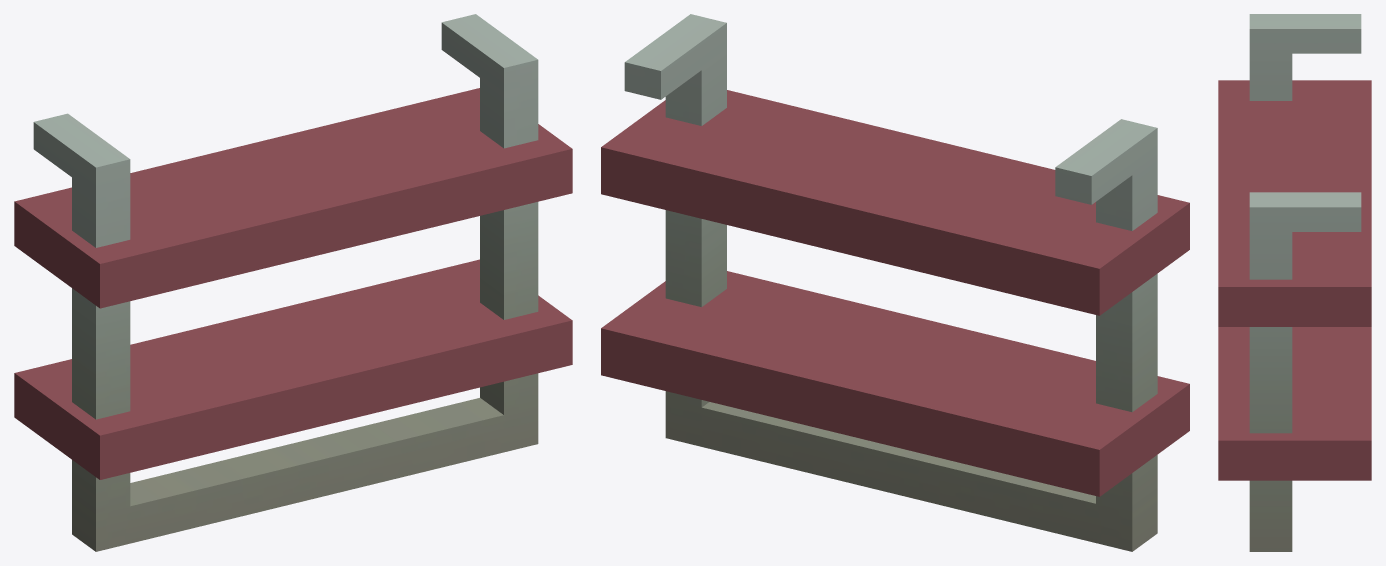
The model's file is SM_Shelf_Toilet_1_01.fbx.
3 renders of one model, left to right at view 1: azimuth 30°, elevation 25°; view 2: azimuth 150°, elevation 25°; view 3: azimuth 270°, elevation 25°, orthographic. The views are drawn at different scales.
Parts seen in each view (by area): view 1: SM_Shelf_Toilet_1_01; view 2: SM_Shelf_Toilet_1_01; view 3: SM_Shelf_Toilet_1_01.
Boxes of the visible parts, x1,y1,x2,y2 form: SM_Shelf_Toilet_1_01: (14,14,572,551); SM_Shelf_Toilet_1_01: (601,14,1189,551); SM_Shelf_Toilet_1_01: (1218,14,1371,551).
Bounding box in the file's own units: 107 × 82.9 × 33.44.
